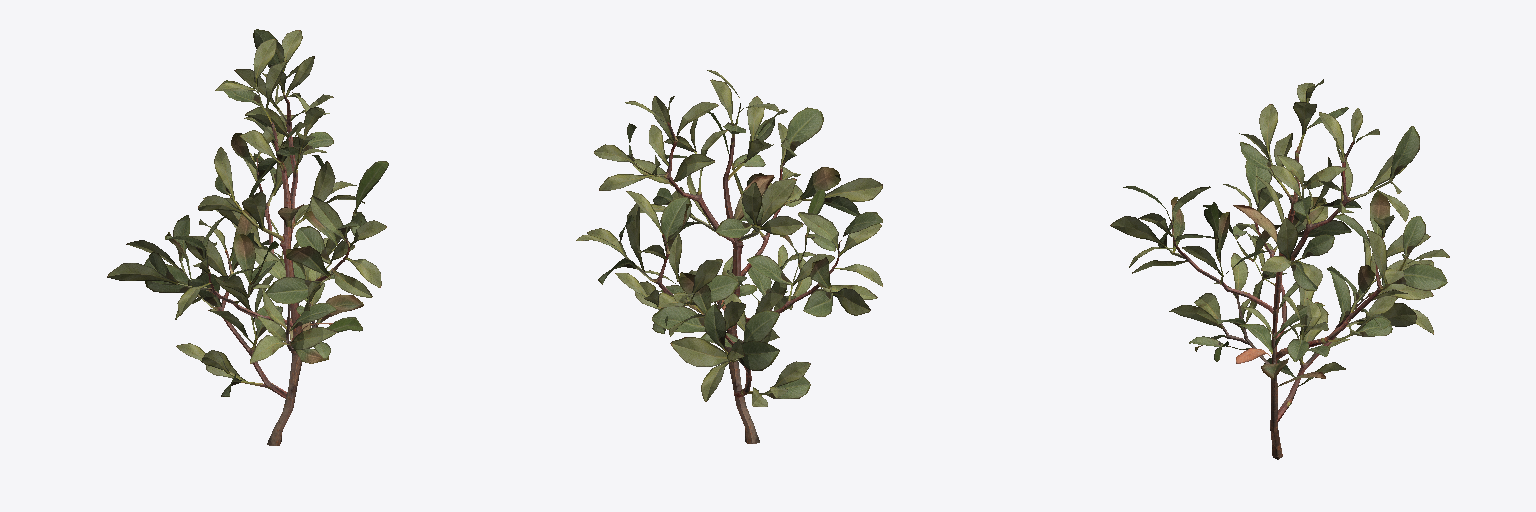
3 views of the same model, side by side, from view 1: azimuth 30°, elevation 25°; view 2: azimuth 150°, elevation 25°; view 3: azimuth 270°, elevation 25° (orthographic).
Parts seen in each view (by area): view 1: shrub_04_b_LOD0; view 2: shrub_04_b_LOD0; view 3: shrub_04_b_LOD0.
Boxes of the visible parts, <box> form: shrub_04_b_LOD0: <box>107,29,388,445</box>; shrub_04_b_LOD0: <box>576,70,882,443</box>; shrub_04_b_LOD0: <box>1110,79,1449,459</box>.
Size of the model in its own units: 0.1428 by 0.2077 by 0.1664.
1 materials, 1 textured.